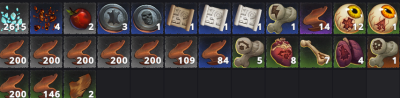chaos ember: (31, 3, 62, 34)
durable hide: (64, 70, 92, 98)
ethereal dust: (1, 4, 29, 34)
flexible Hide: (64, 35, 96, 67), (97, 36, 129, 68), (131, 35, 163, 67), (164, 36, 196, 68), (300, 2, 332, 34), (31, 35, 62, 66), (199, 37, 230, 68), (1, 36, 29, 66), (1, 69, 29, 98), (32, 70, 60, 98)
